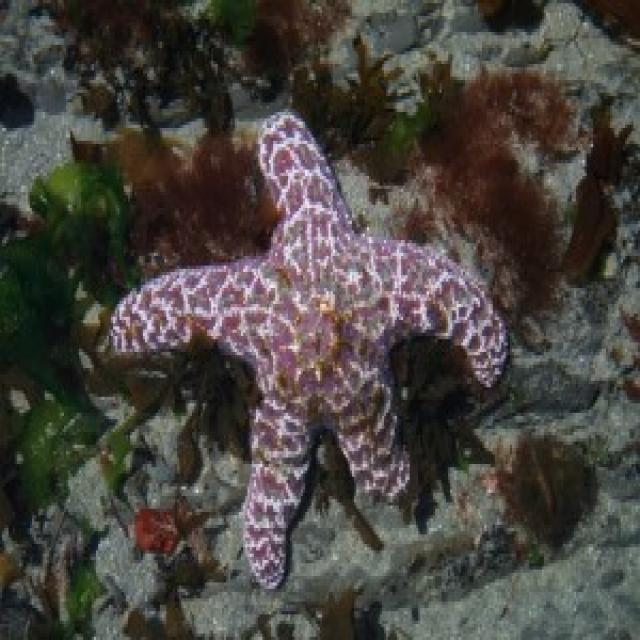Starfish: (109, 106, 518, 578)
